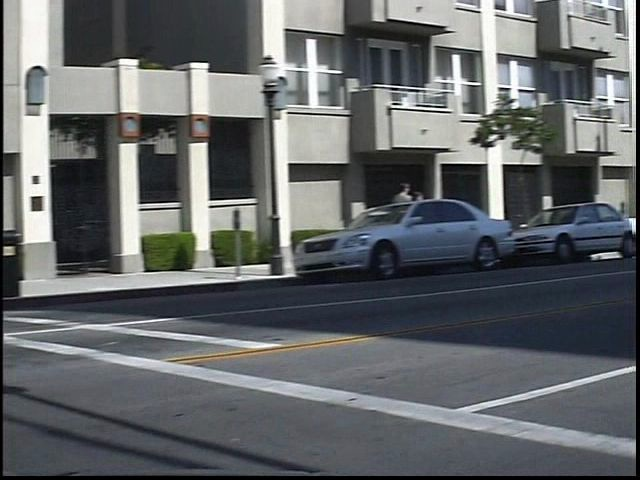person: (405, 179, 429, 253), (423, 187, 443, 248)
